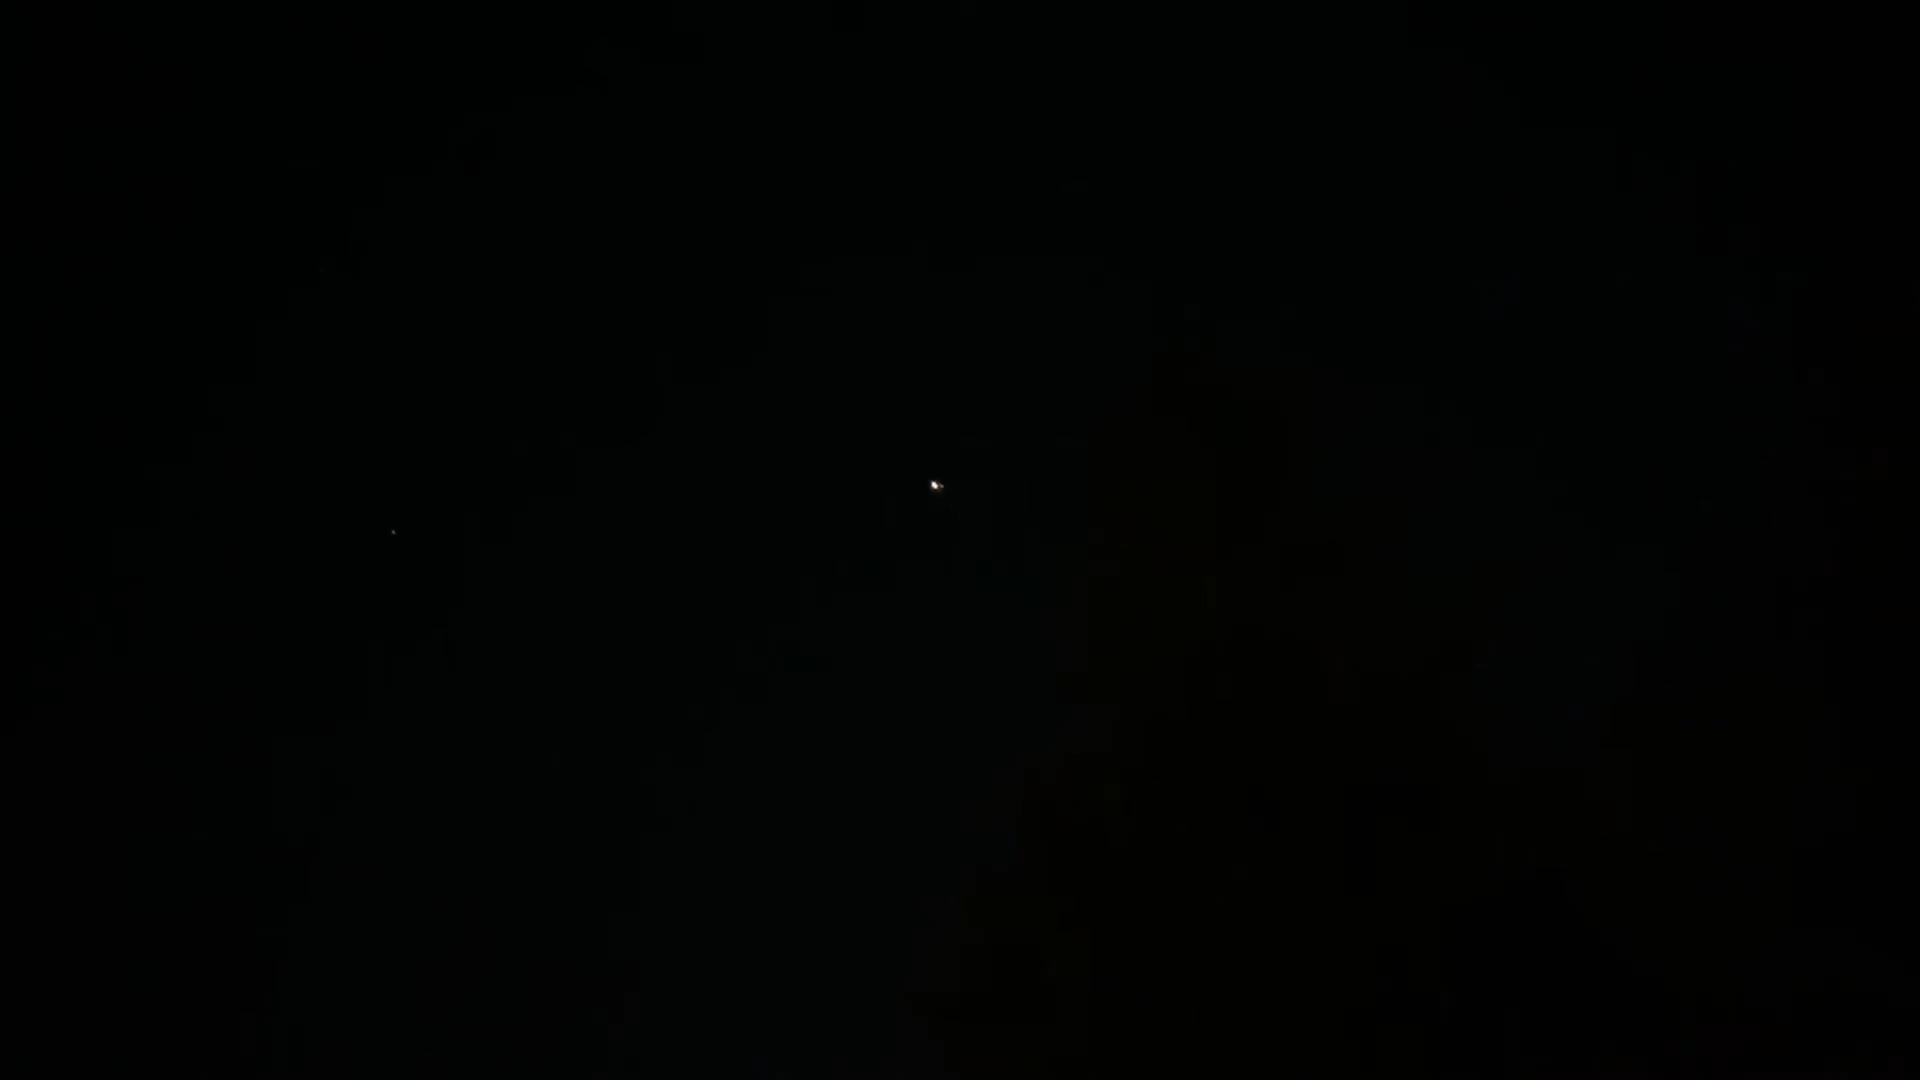Plane: (909, 472, 964, 516)
